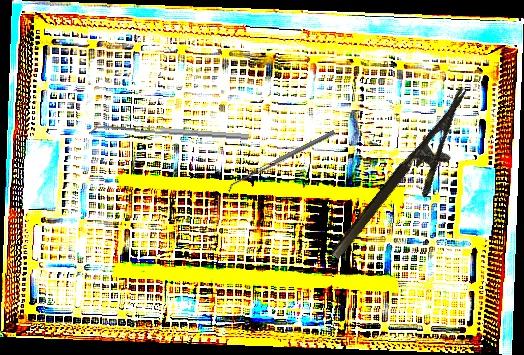Needle Holder: (327, 86, 495, 278)
Spatula Surgical: (225, 130, 338, 193), (89, 122, 249, 147)
